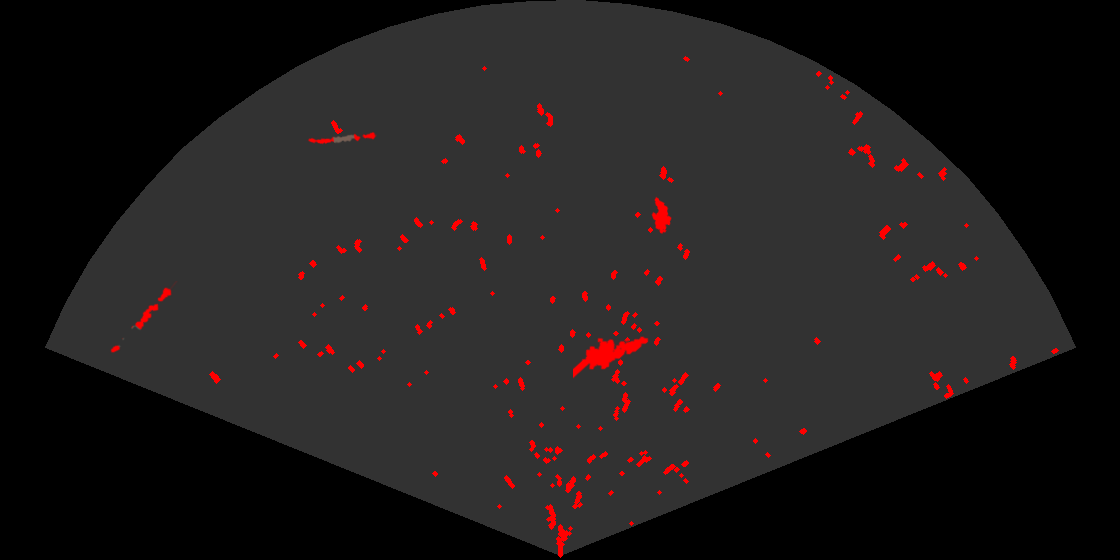AUV: (650, 195, 673, 236)
chain: (109, 281, 179, 354), (306, 130, 377, 146)
frogman: (573, 335, 650, 380)
